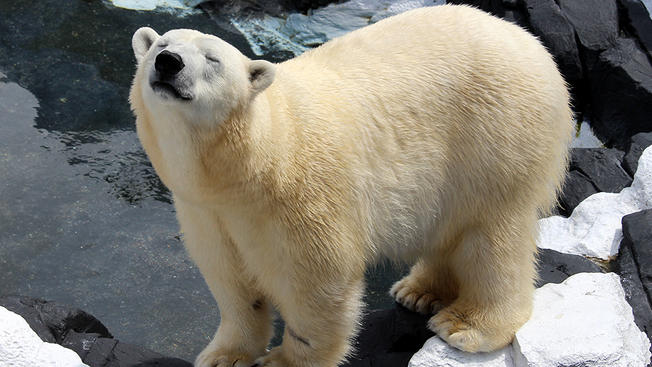Polar Bear: (93, 13, 573, 367)
